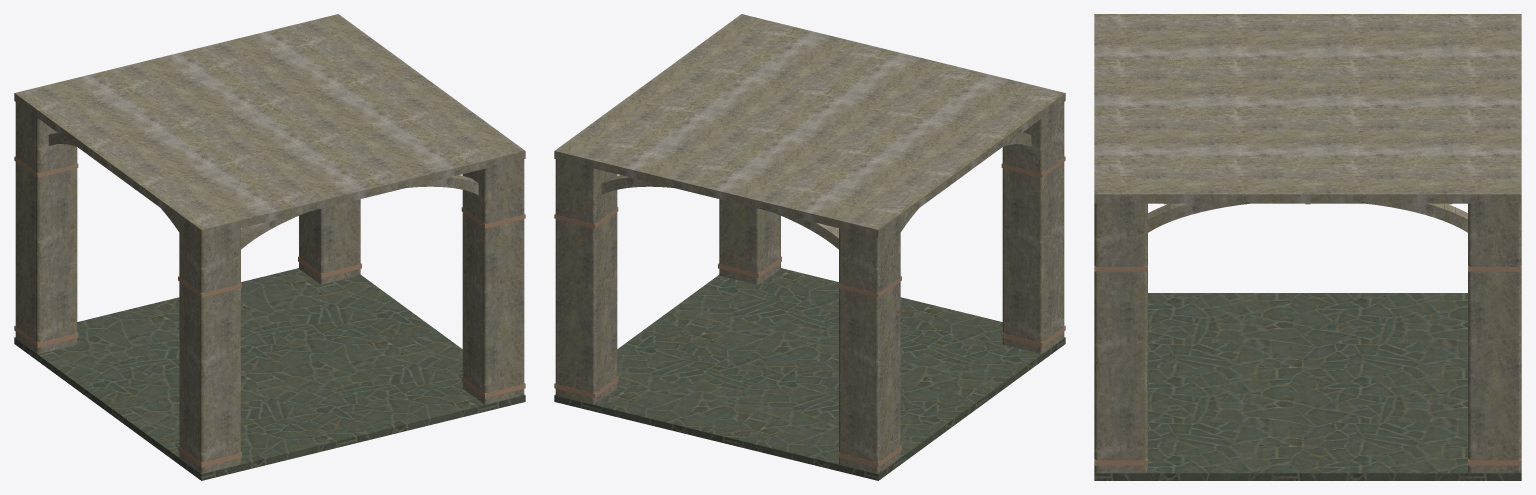
Rendered from in_impbig_4way_01.dae.
The picture shows the model from 3 angles, left to right: view 1: azimuth 30°, elevation 25°; view 2: azimuth 150°, elevation 25°; view 3: azimuth 270°, elevation 25°; orthographic projection. The views are drawn at different scales.
Parts seen in each view (by area): view 1: plaster, stone, oak; view 2: plaster, stone, oak; view 3: plaster, stone, oak.
Boxes of the visible parts, x1,y1,x2,y2 form: plaster: (14,14,525,473); stone: (14,268,525,480); oak: (14,156,525,467); plaster: (554,14,1065,473); stone: (554,268,1065,480); oak: (554,156,1065,467); plaster: (1094,14,1521,473); stone: (1094,293,1521,480); oak: (1094,203,1521,465).
Size of what is drawn, in the model's own units: 512 by 512 by 379.
